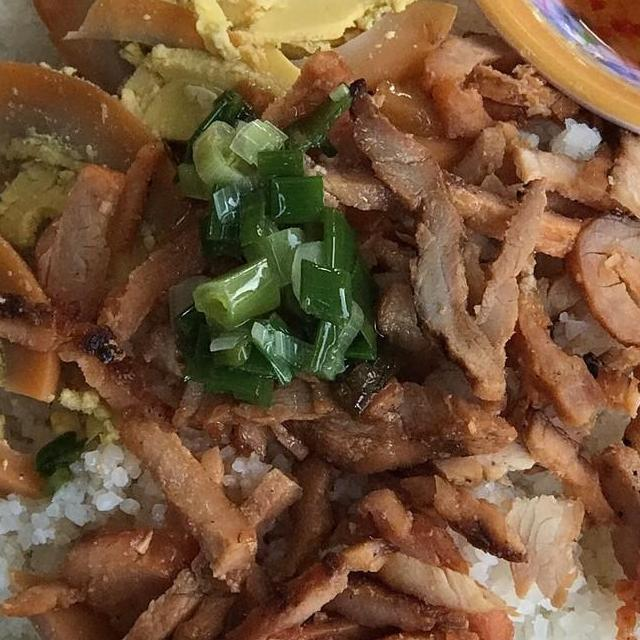com: (0, 425, 191, 640)
com suon trung: (0, 0, 640, 640)
suon: (0, 0, 564, 640), (428, 378, 640, 640), (500, 123, 640, 455)
trung: (0, 52, 170, 565), (6, 0, 467, 170)
